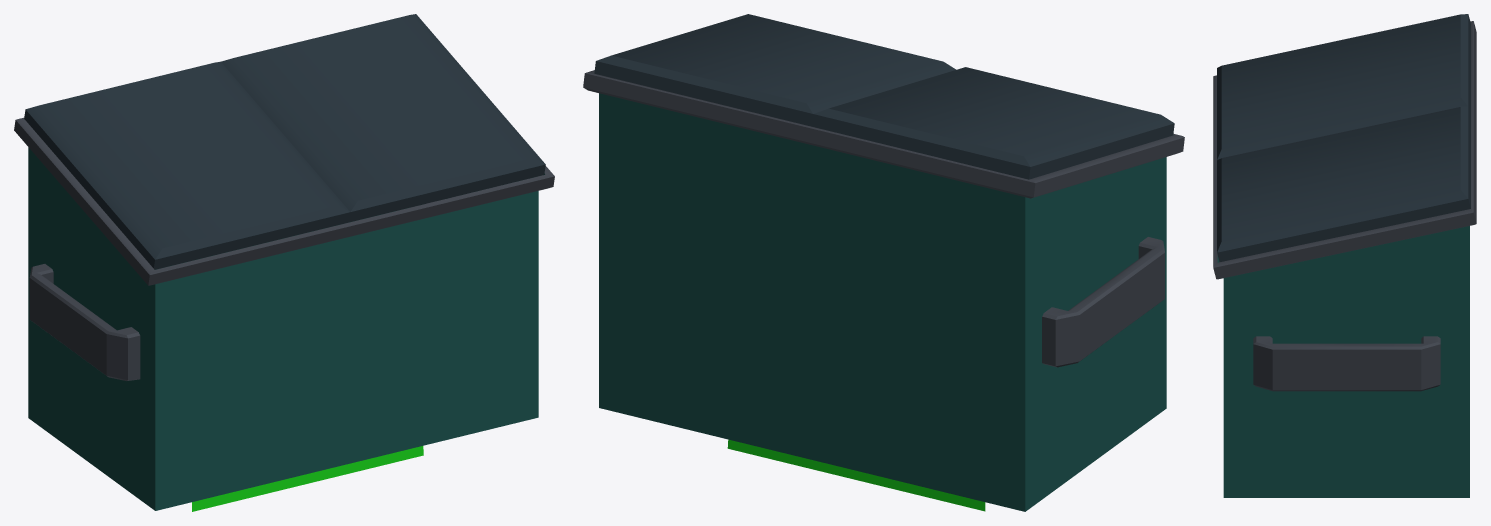
File: Dumpster.fbx
3 views of the same model, side by side, from view 1: azimuth 30°, elevation 25°; view 2: azimuth 150°, elevation 25°; view 3: azimuth 270°, elevation 25° (orthographic). The views are drawn at different scales.
Visible parts, largest first — view 1: Dumpster, Plane.002; view 2: Dumpster, Plane.003; view 3: Dumpster.
Boxes of the visible parts, <box> form: Dumpster: <box>14,14,554,510</box>; Plane.002: <box>192,446,423,511</box>; Dumpster: <box>583,14,1184,511</box>; Plane.003: <box>727,439,985,511</box>; Dumpster: <box>1213,14,1476,497</box>.
Size of the model in its own units: 626 by 509 by 342.
